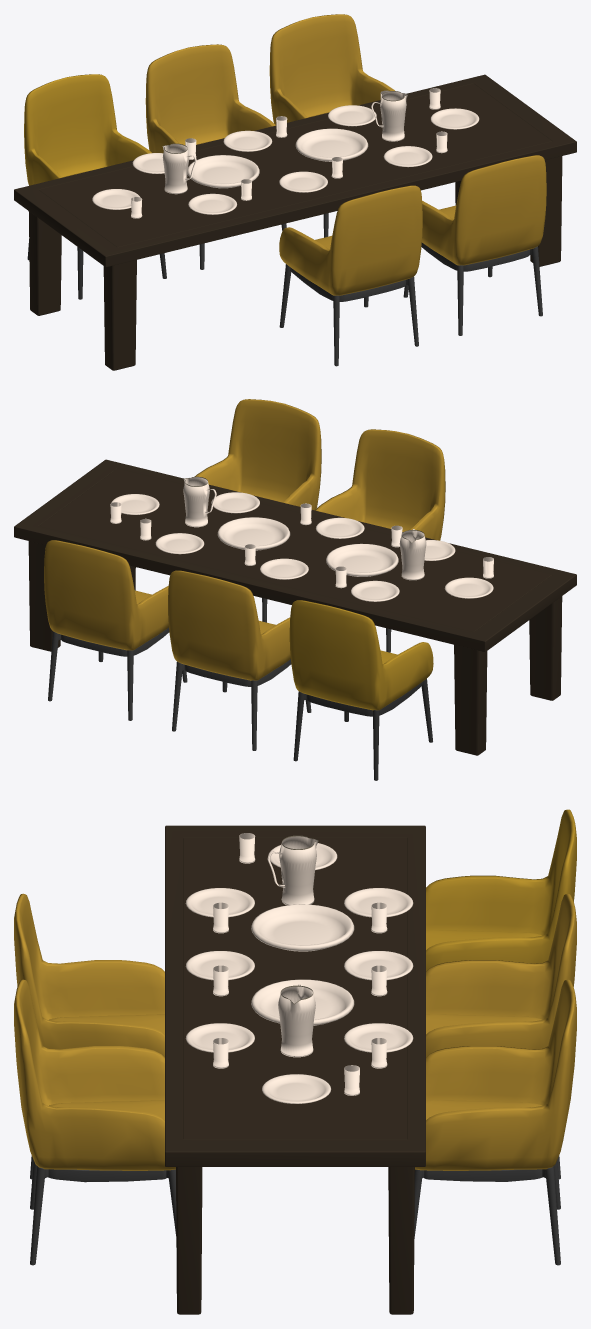
The model's file is 189 - Tavola Imbandita.glb.
3 renders of one model, top to bottom at view 1: azimuth 30°, elevation 25°; view 2: azimuth 150°, elevation 25°; view 3: azimuth 270°, elevation 25°, orthographic. The views are drawn at different scales.
Visible parts, largest first — view 1: Chair_1_1; view 2: Chair_1_1; view 3: Chair_1_1.
Part boxes in pixels (left/top/right/bottom): Chair_1_1: left=14, top=14, right=576, bottom=370; Chair_1_1: left=14, top=399, right=576, bottom=780; Chair_1_1: left=14, top=809, right=576, bottom=1314.
Bounding box in the file's own units: 3.1 × 1.06 × 2.26.
